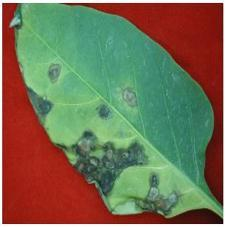Bacterial Spot: (9, 4, 214, 218)
